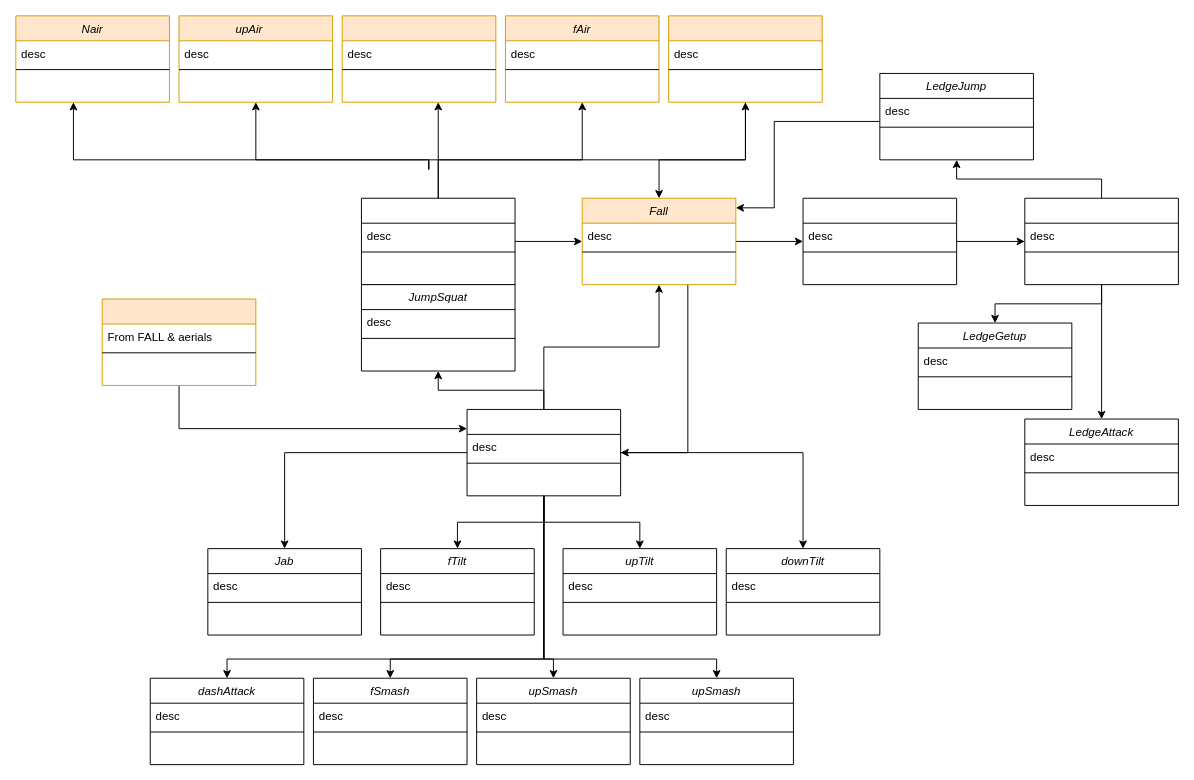
Image size: 1194x780. Some labels were removed from this diagram. Here are the shapes that lost their labels. From the top down, the box of each, then its label:
(341, 15, 496, 102): downAir
(668, 15, 822, 102): backAir
(360, 197, 515, 285): Jump
(802, 197, 957, 285): LedgeGrab
(1024, 197, 1178, 285): LedgeHang
(101, 298, 256, 385): Land
(466, 408, 621, 496): RunState
